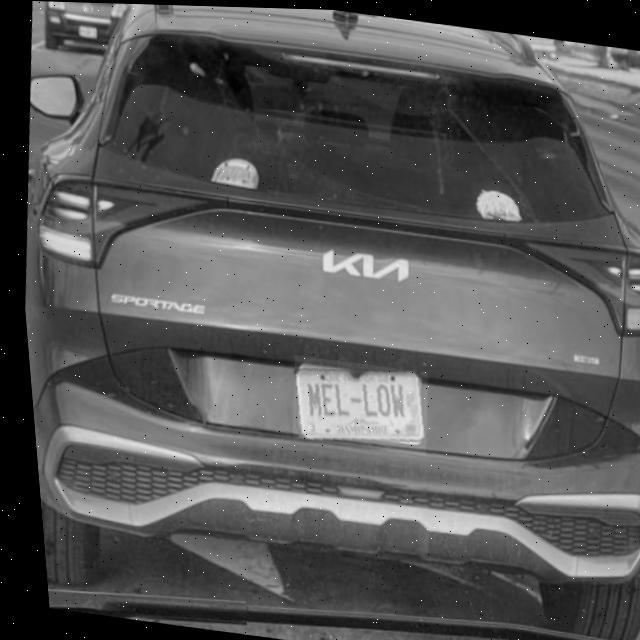LicensePlate: (288, 367, 419, 438)
